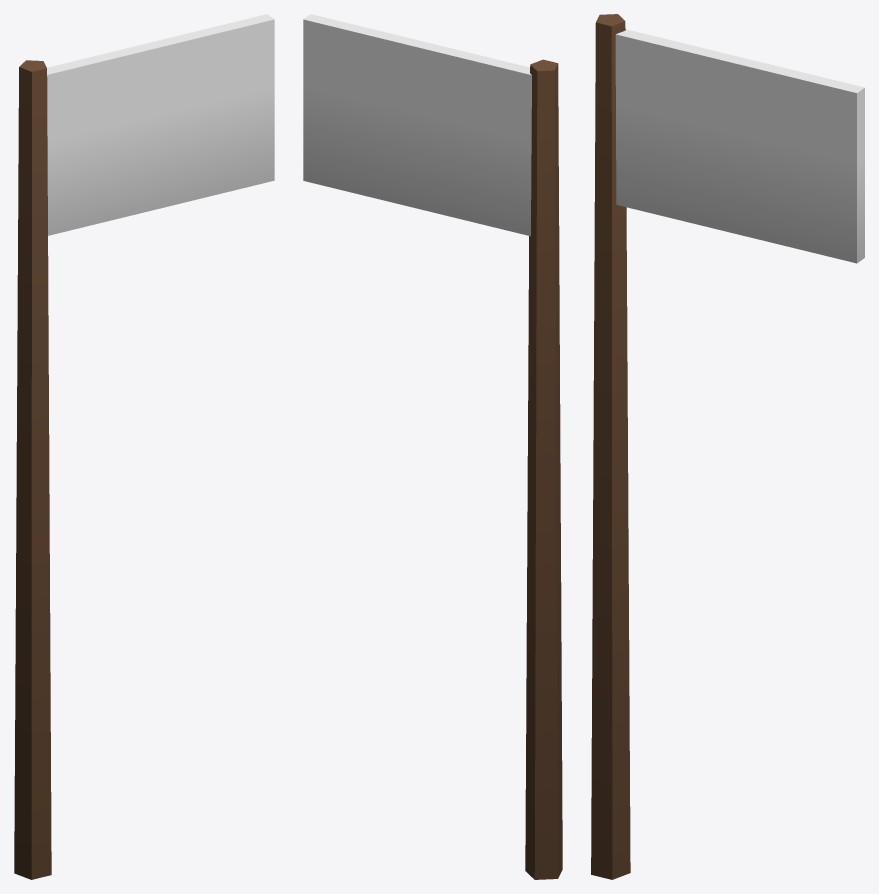
The model's file is flag.glb.
3 views of the same model, side by side, from view 1: azimuth 30°, elevation 25°; view 2: azimuth 150°, elevation 25°; view 3: azimuth 330°, elevation 25° (orthographic). The views are drawn at different scales.
Visible parts, largest first — view 1: flag; view 2: flag; view 3: flag.
Part boxes in pixels (box(x1,y1,x2,y2)): flag: box(14, 14, 274, 879); flag: box(303, 14, 562, 879); flag: box(591, 14, 864, 879).
Size of the model in its own units: 0.593 by 1.8 by 0.0724.
Materials: 1 (1 with a texture image).
